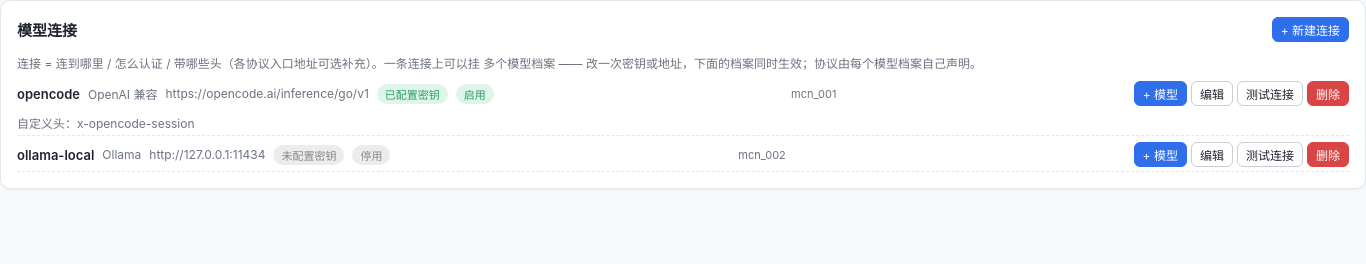
Test case: ConnectionsPanel · 模型连接 › 测试连接失败：错误通道（alert--error）
Click the button with test id "connection-test-mcn_001".
click(1270, 94)  # box [1237,81,1303,106]
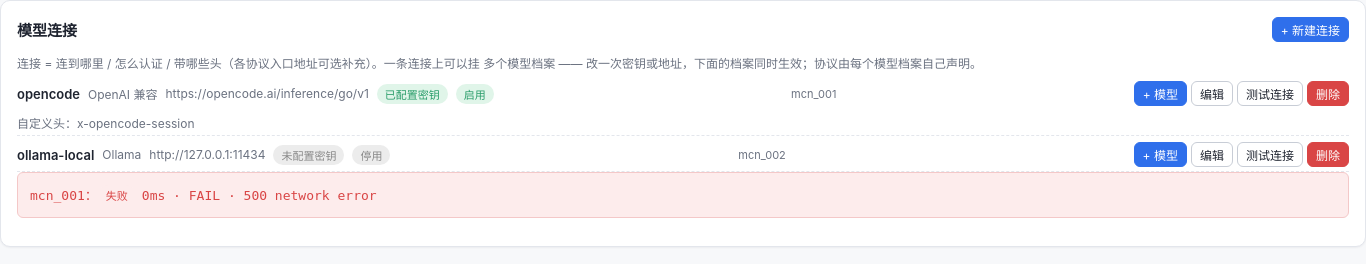
Now the element with test id "connection-test-result" shows "失败", box [106,190,128,203]
